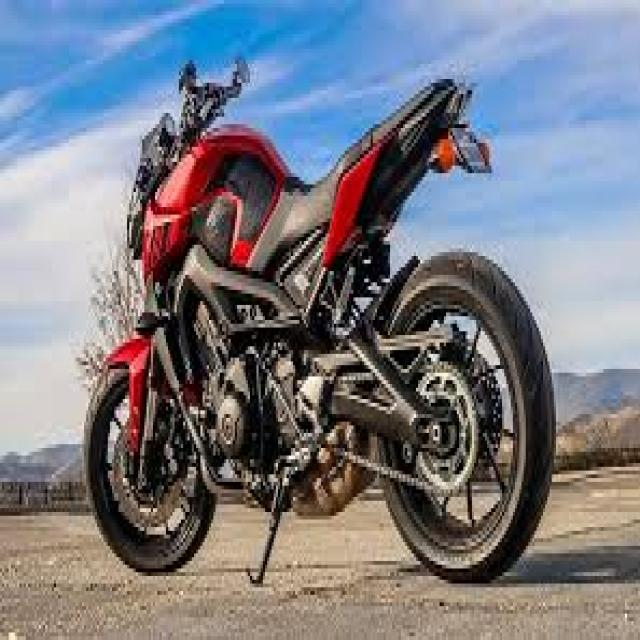bike: (83, 51, 556, 584)
